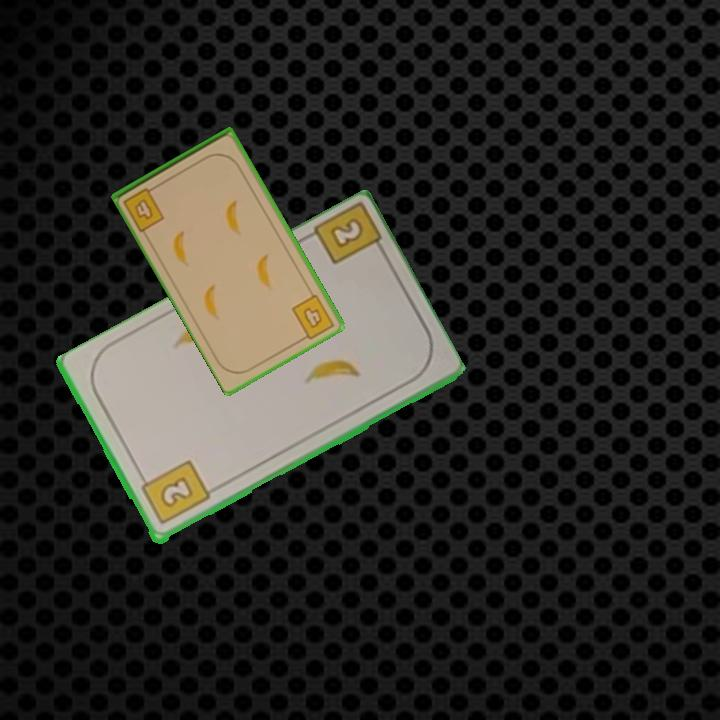2b: (136, 457, 213, 528), (308, 202, 390, 268)
4b: (288, 290, 337, 344), (119, 182, 167, 234)
